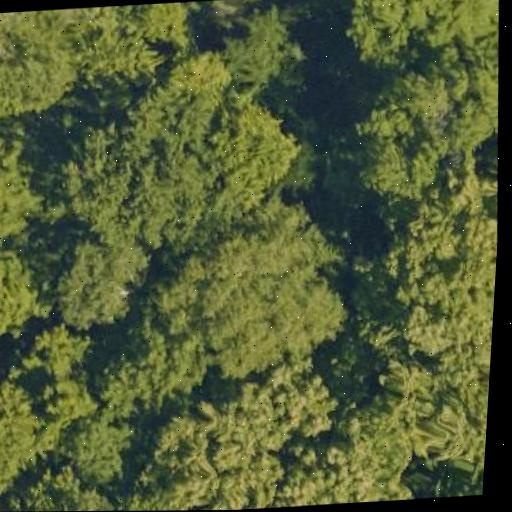tree-top: (162, 204, 358, 385), (160, 361, 340, 511), (340, 53, 506, 202), (372, 203, 500, 361), (65, 130, 199, 246), (386, 349, 491, 474), (46, 222, 158, 334), (198, 98, 308, 210), (340, 0, 502, 67), (0, 7, 90, 112), (23, 320, 101, 437), (0, 113, 65, 249), (91, 335, 183, 420), (0, 373, 59, 486), (214, 3, 295, 82), (0, 234, 53, 351), (16, 462, 121, 512), (62, 413, 140, 475), (112, 480, 192, 511), (142, 2, 199, 43), (425, 470, 484, 499), (0, 495, 25, 512)
